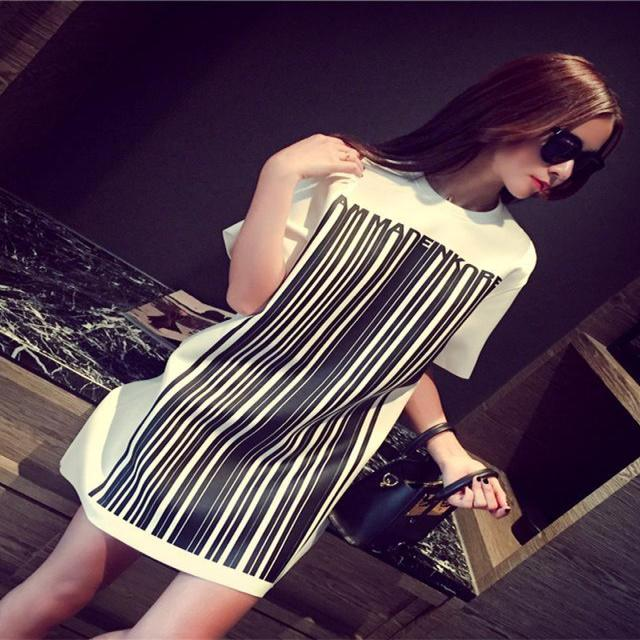short sleeve dress: (60, 154, 537, 597)
